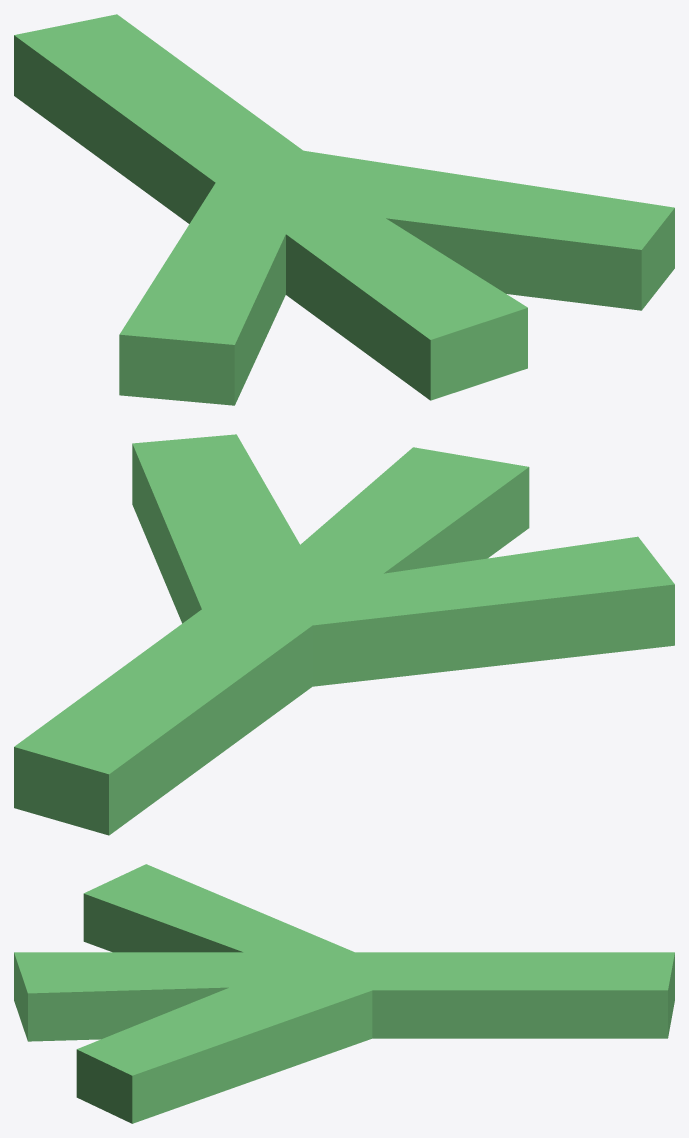
The model's file is Elhaz.fbx.
3 renders of one model, top to bottom at view 1: azimuth 30°, elevation 25°; view 2: azimuth 150°, elevation 25°; view 3: azimuth 270°, elevation 25°, orthographic. The views are drawn at different scales.
Visible parts, largest first — view 1: Elhaz; view 2: Elhaz; view 3: Elhaz.
Boxes of the visible parts, x1,y1,x2,y2 form: Elhaz: (14,14,674,405); Elhaz: (14,434,674,835); Elhaz: (14,864,674,1123).
Size of the model in its own units: 0.5981 by 0.0635 by 0.7891.
